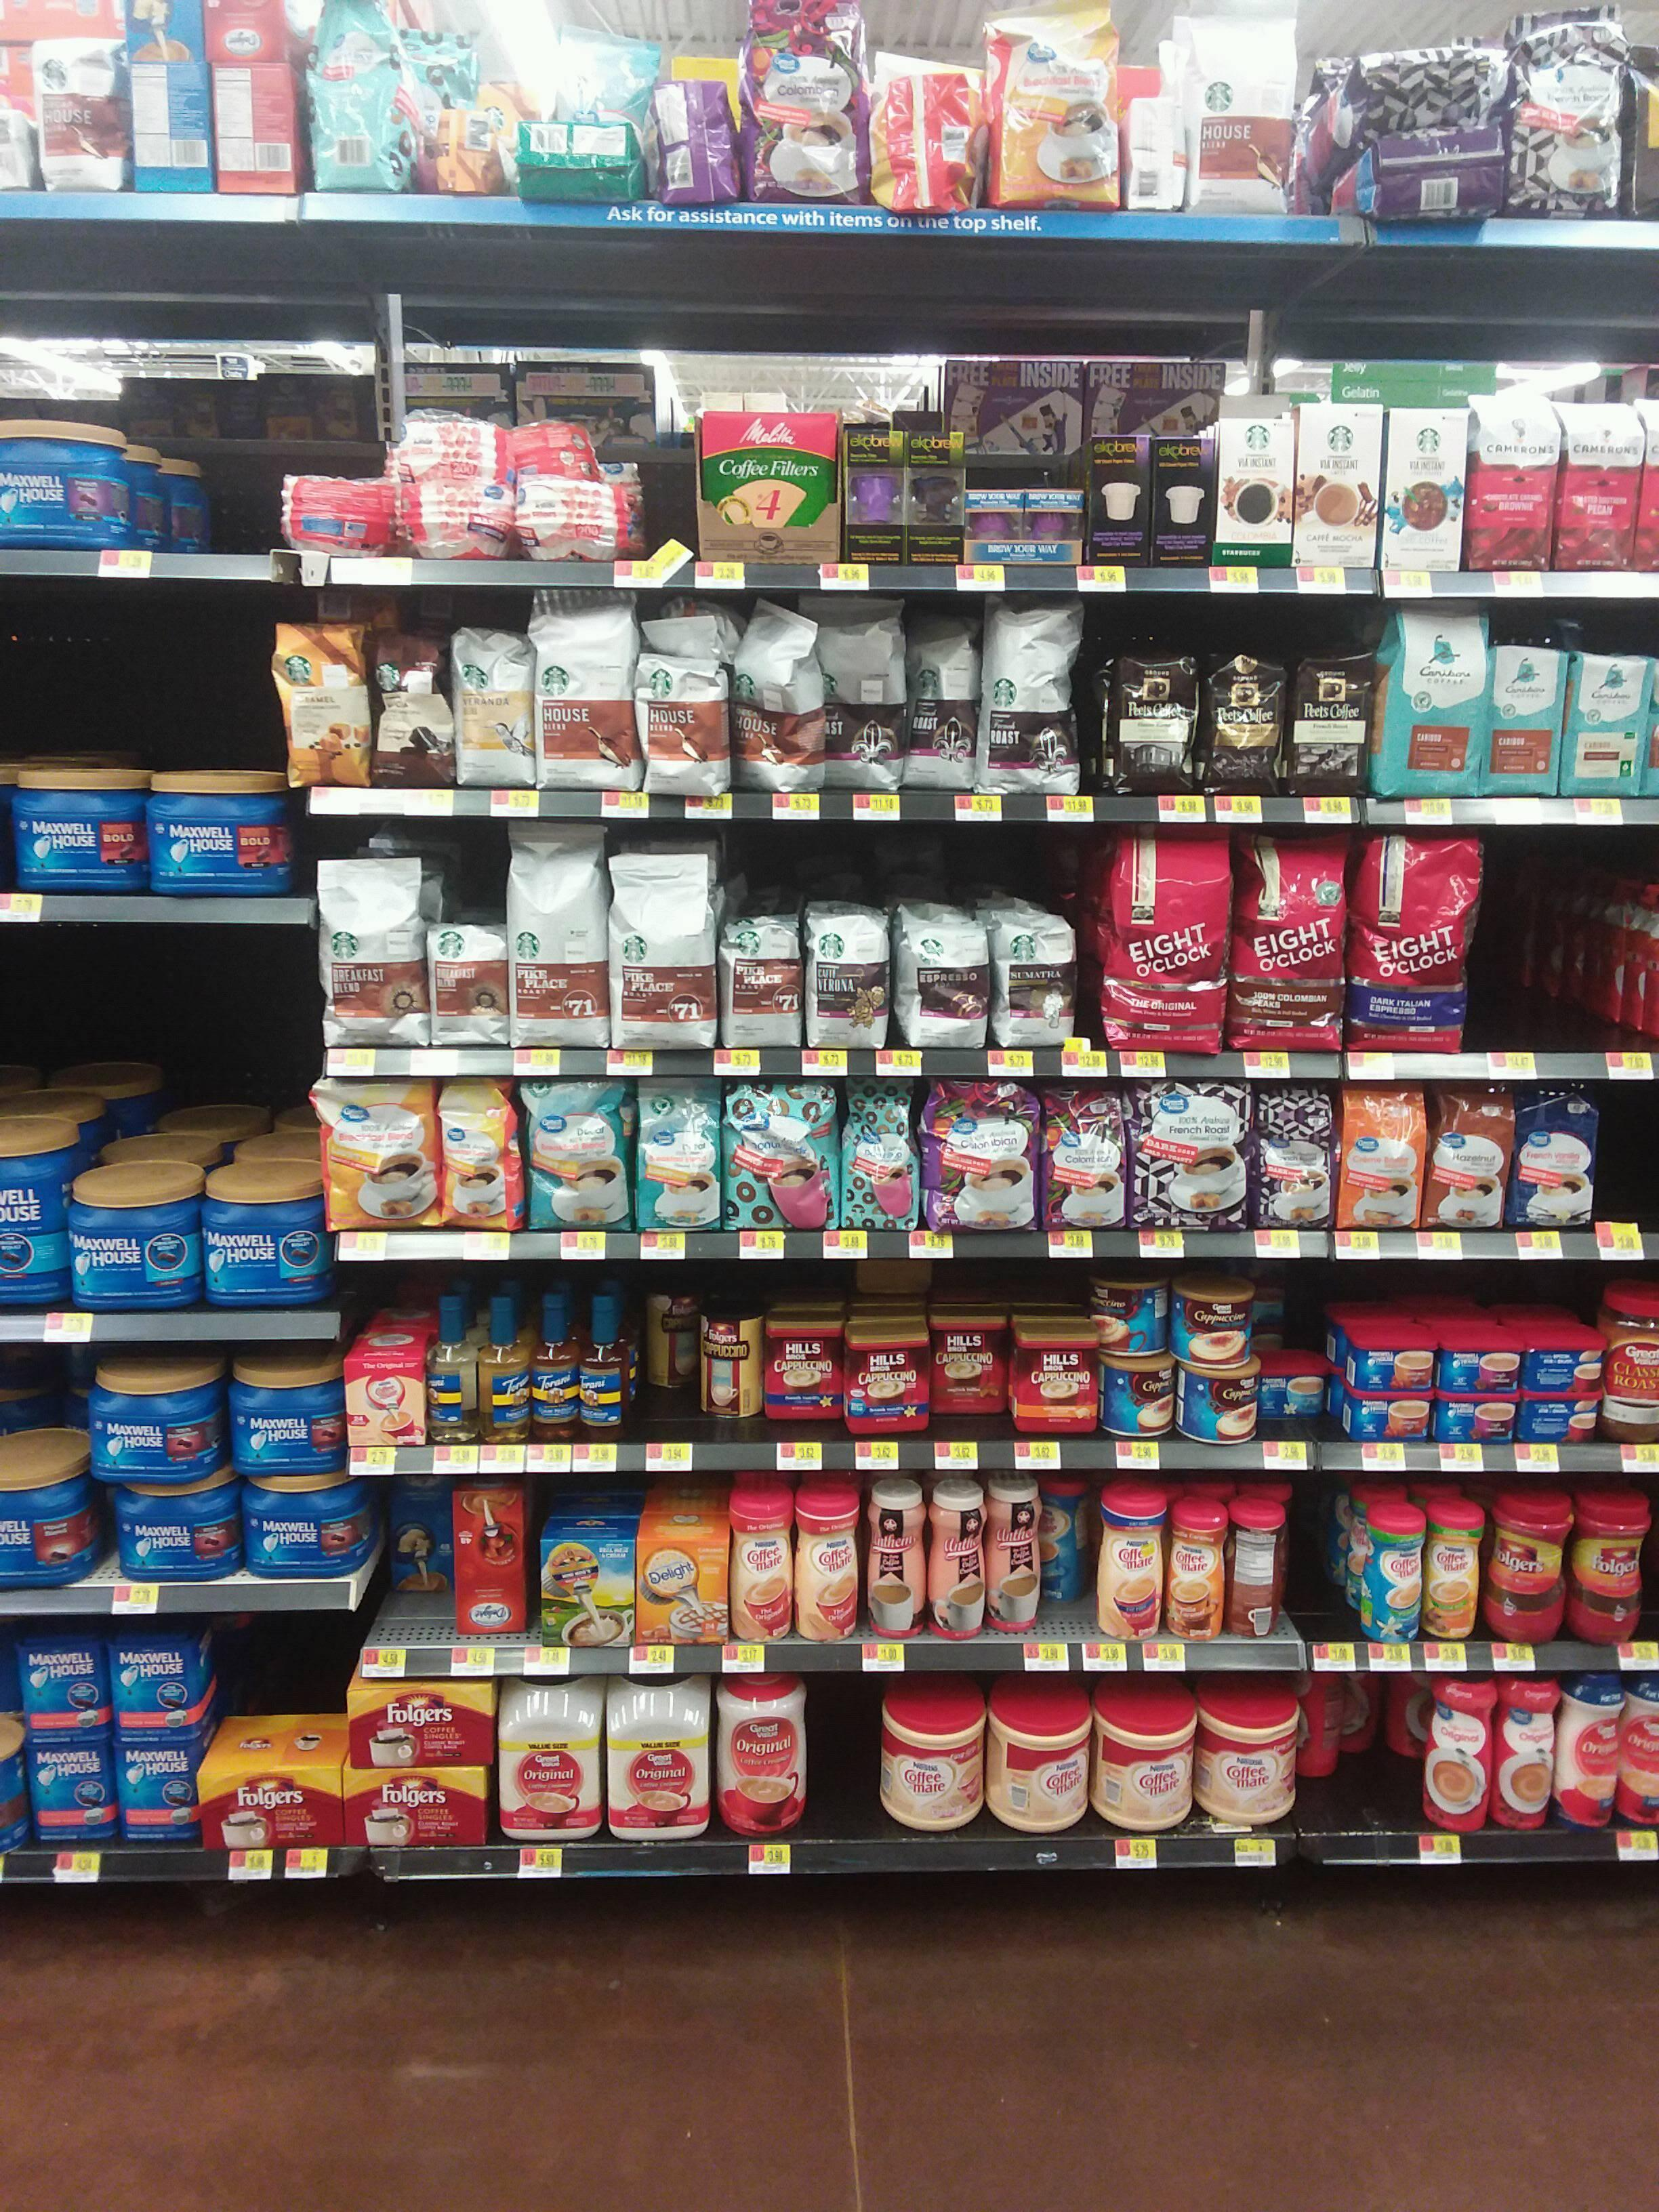empty: (1486, 869, 1610, 1049), (153, 418, 268, 556), (1326, 1689, 1417, 1829), (807, 1681, 885, 1834), (1584, 1089, 1659, 1228)
